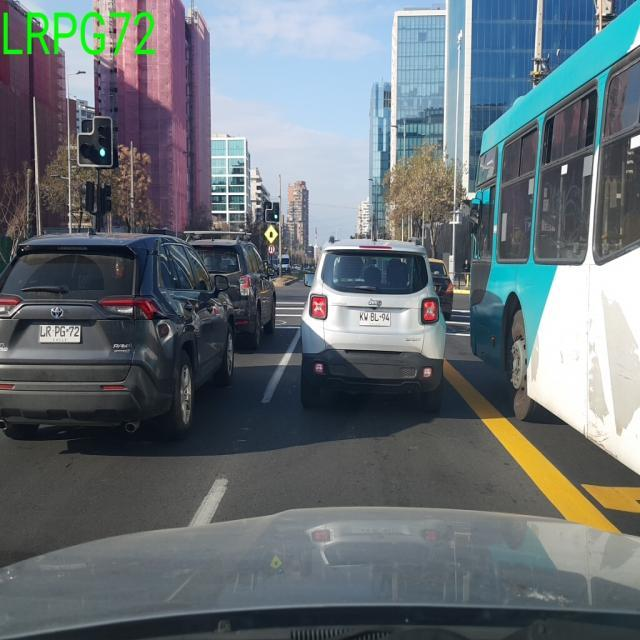Bus: (466, 0, 639, 476)
Car: (0, 229, 237, 439), (298, 237, 447, 412)
Traffic-light: (76, 115, 115, 168)
